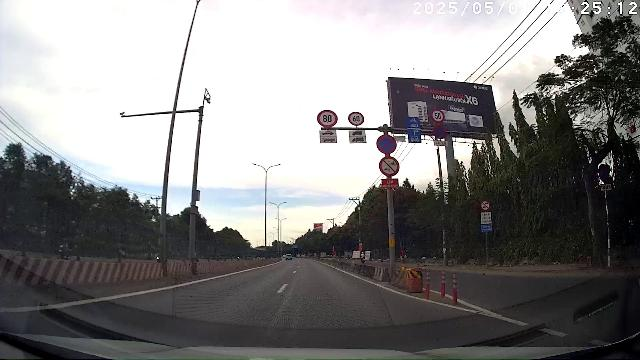127-toc-do-toi-da-50: (431, 108, 446, 124)
127-toc-do-toi-da-60: (347, 110, 366, 126)
127-toc-do-toi-da-80: (317, 109, 338, 127)
130-cam-dung-va-do-xe: (376, 134, 397, 154)
